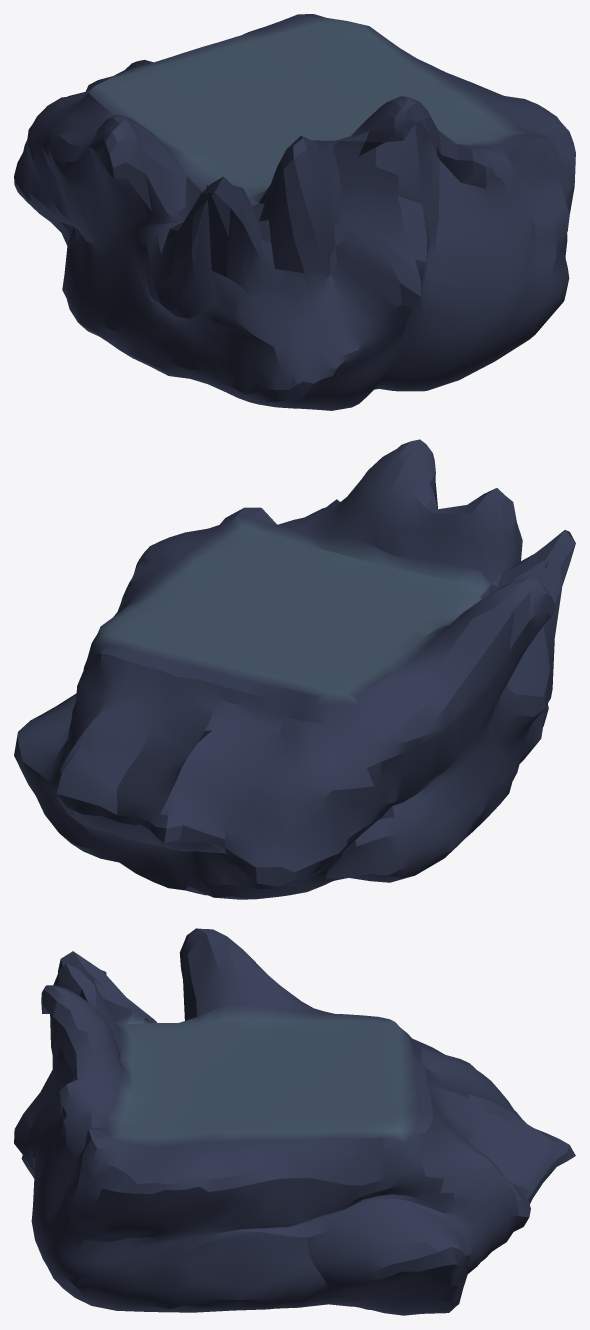
The model's file is AsteroidMap.fbx.
3 views of the same model, one above another, from view 1: azimuth 30°, elevation 25°; view 2: azimuth 150°, elevation 25°; view 3: azimuth 270°, elevation 25° (orthographic). The views are drawn at different scales.
Parts seen in each view (by area): view 1: Cube.005; view 2: Cube.005; view 3: Cube.005.
Boxes of the visible parts, x1,y1,x2,y2 form: Cube.005: [14, 14, 575, 410]; Cube.005: [14, 439, 575, 899]; Cube.005: [14, 928, 575, 1315].
Bounding box in the file's own units: 5722 × 4150 × 7100.
